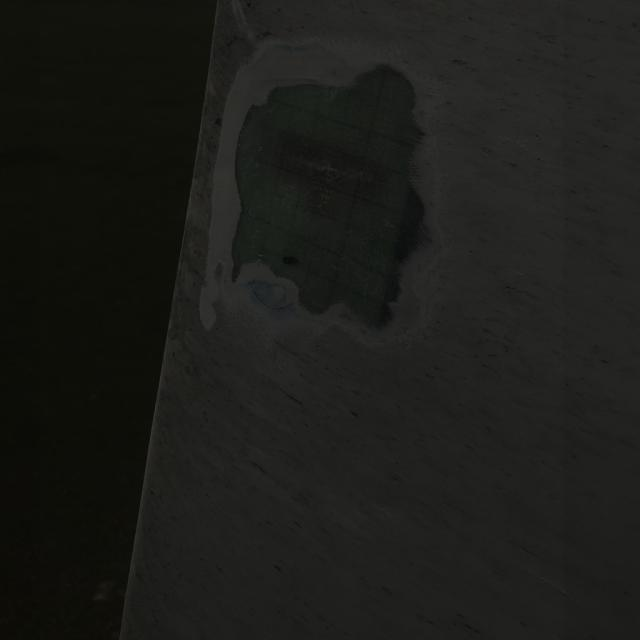surface_peeling: (211, 67, 440, 327)
